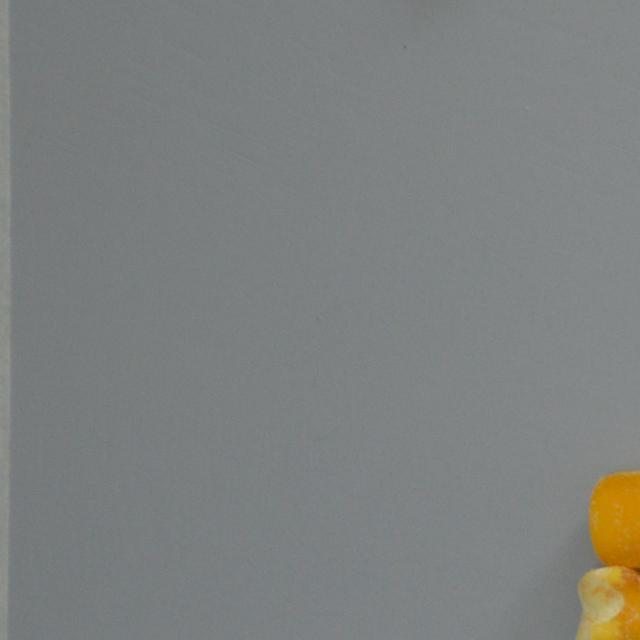pelicula: (588, 465, 640, 568), (573, 564, 640, 640)
